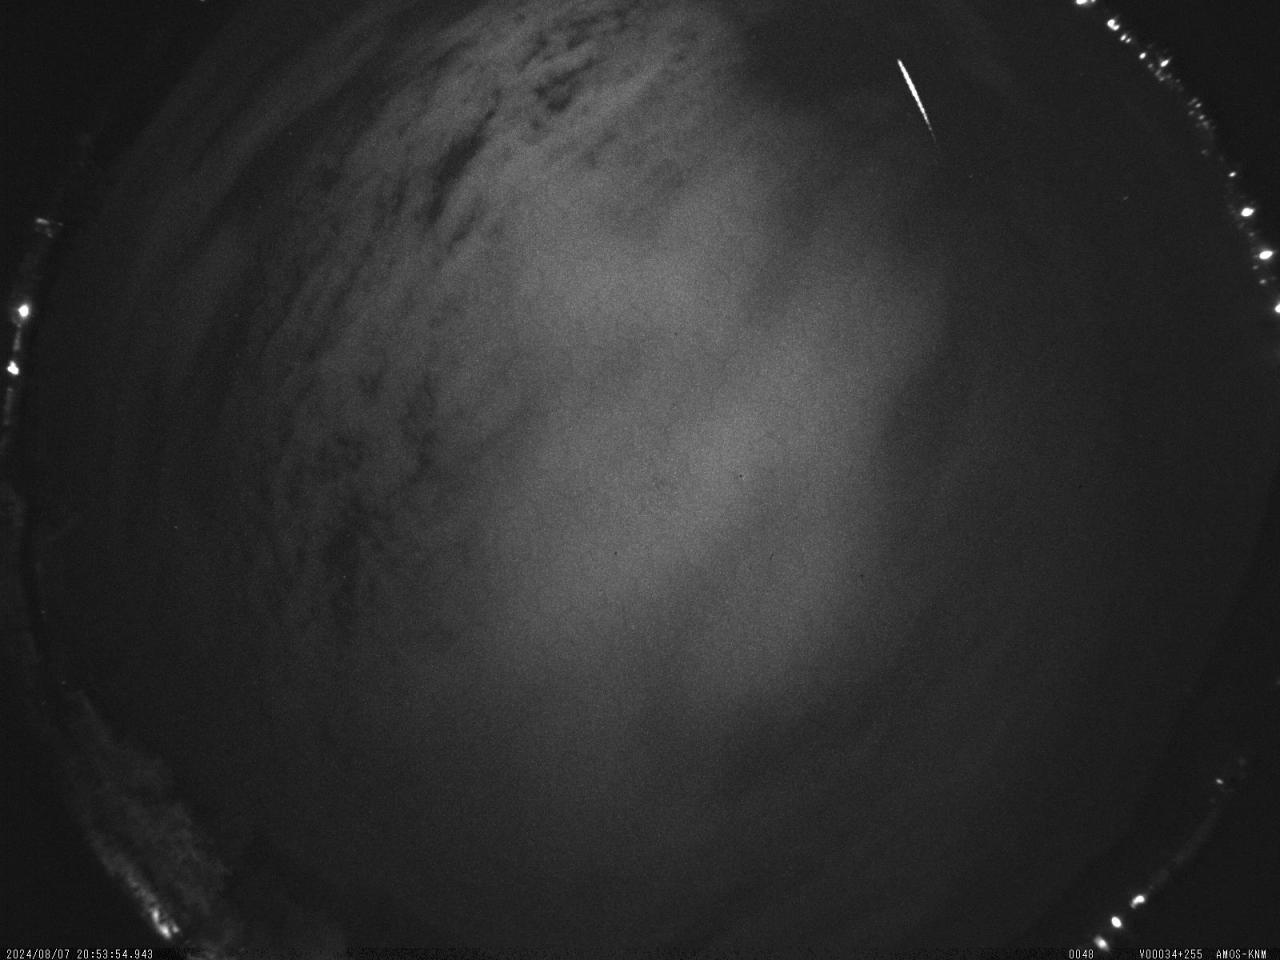Meteor: (894, 56, 936, 143)
